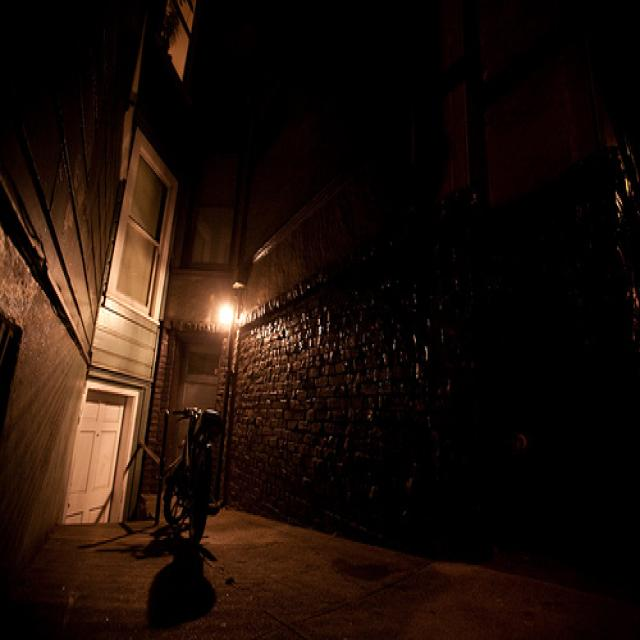Motorbike: (154, 392, 265, 600)
